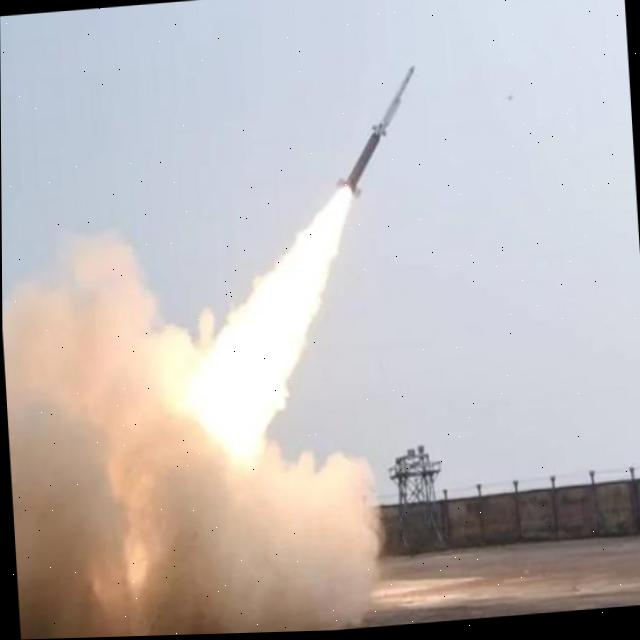missile: (330, 64, 419, 202)
